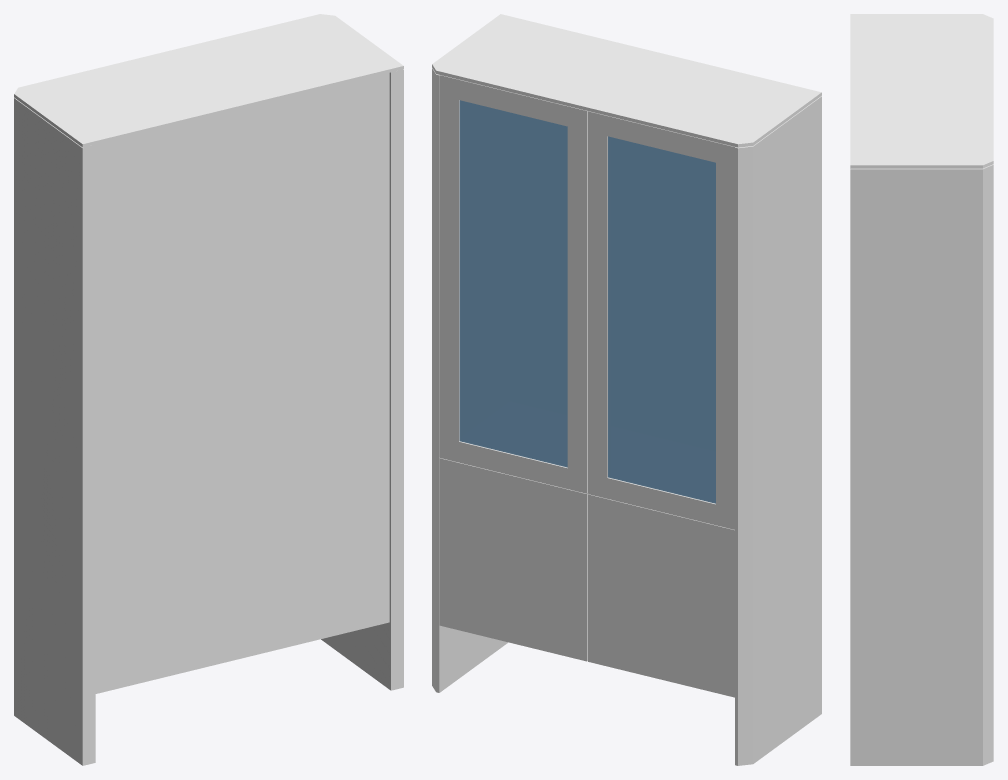
3 renders of one model, left to right at view 1: azimuth 30°, elevation 25°; view 2: azimuth 150°, elevation 25°; view 3: azimuth 270°, elevation 25°, orthographic. The views are drawn at different scales.
Visible parts, largest first — view 1: mesh1_mesh1-geometry; view 2: mesh1_mesh1-geometry, mesh5_mesh5-geometry, mesh6_mesh6-geometry; view 3: mesh1_mesh1-geometry.
Boxes of the visible parts, box(x1,y1,x2,y2) form: mesh1_mesh1-geometry: box(14, 14, 403, 765); mesh1_mesh1-geometry: box(432, 14, 821, 765); mesh5_mesh5-geometry: box(459, 100, 567, 467); mesh6_mesh6-geometry: box(608, 136, 715, 503); mesh1_mesh1-geometry: box(850, 14, 993, 765).
Size of the model in its own units: 0.4671 by 0.8642 by 0.1869.
